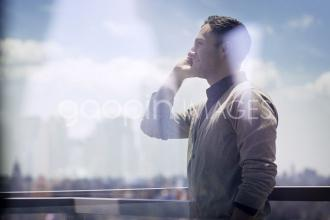phone: (174, 46, 196, 74)
